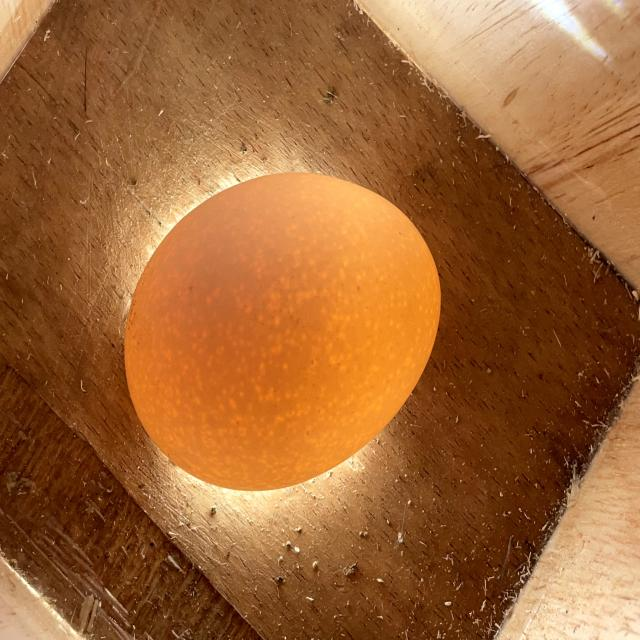infertile: (125, 173, 440, 490)
